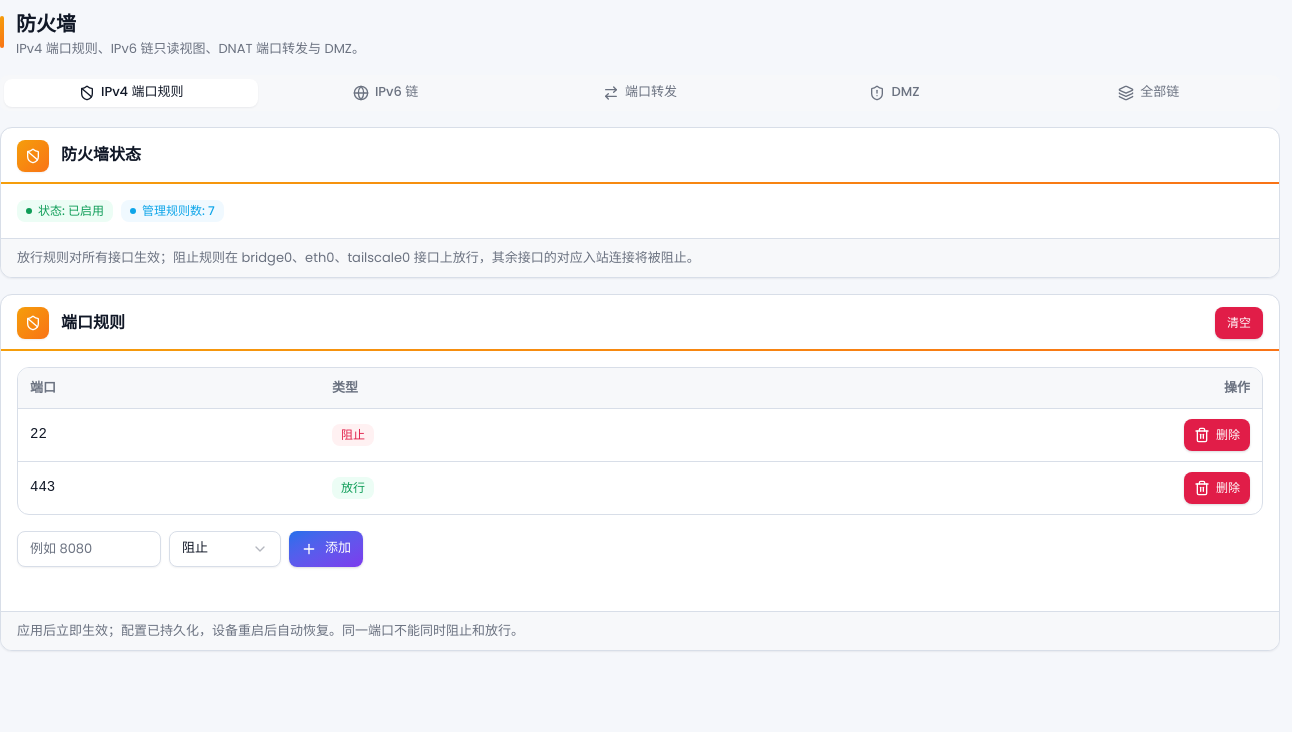
FirewallPage 组件 › status6 失败(ip6tables 缺失)→ ErrorRetry + 说明 + 重试按钮
This screenshot has width=1292, height=732.
Expected: the cell "22" is shown, [18, 408, 320, 461]
Click the tab "IPv6 链" at (386,93), box [258, 79, 513, 107]
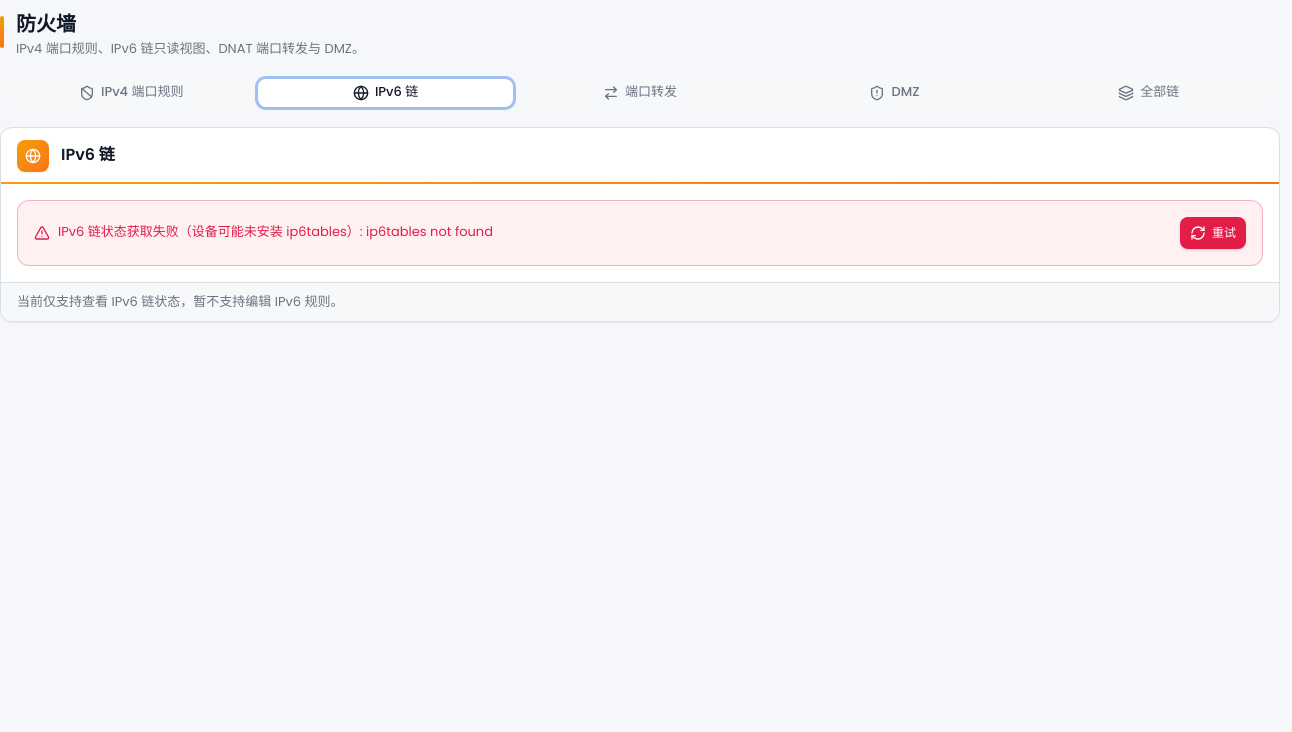
Expected: the message shows "IPv6 链状态获取失败", [58, 222, 493, 241]
Expected: the message shows "ip6tables not found", [58, 222, 493, 241]
Expected: the button "重试" is shown, [1180, 217, 1246, 249]
